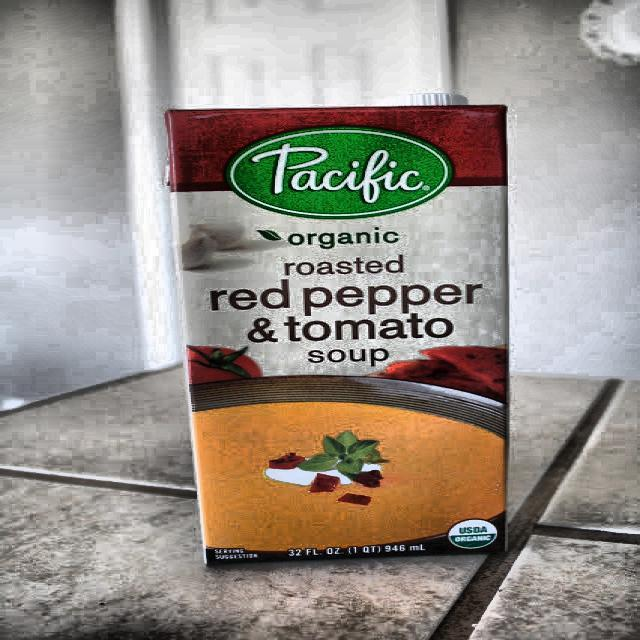cardboard: (163, 103, 510, 565)
